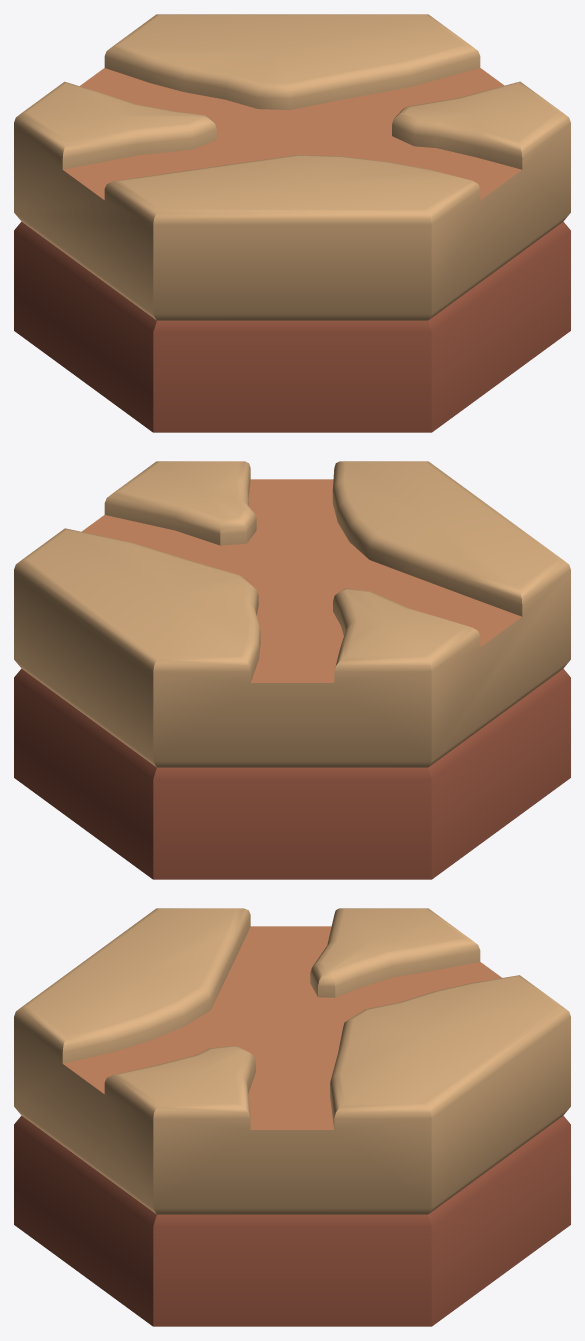
The model's file is hex_sand_roadJ_detail.glb.
The picture shows the model from 3 angles, top to bottom: view 1: azimuth 30°, elevation 25°; view 2: azimuth 150°, elevation 25°; view 3: azimuth 270°, elevation 25°; orthographic projection.
Visible parts, largest first — view 1: hex_sand_roadJ_detail; view 2: hex_sand_roadJ_detail; view 3: hex_sand_roadJ_detail.
Boxes of the visible parts, x1,y1,x2,y2 form: hex_sand_roadJ_detail: (14,14,570,432); hex_sand_roadJ_detail: (14,461,570,879); hex_sand_roadJ_detail: (14,908,570,1326).
Bounding box in the file's own units: 3.82 × 1.91 × 4.41.
